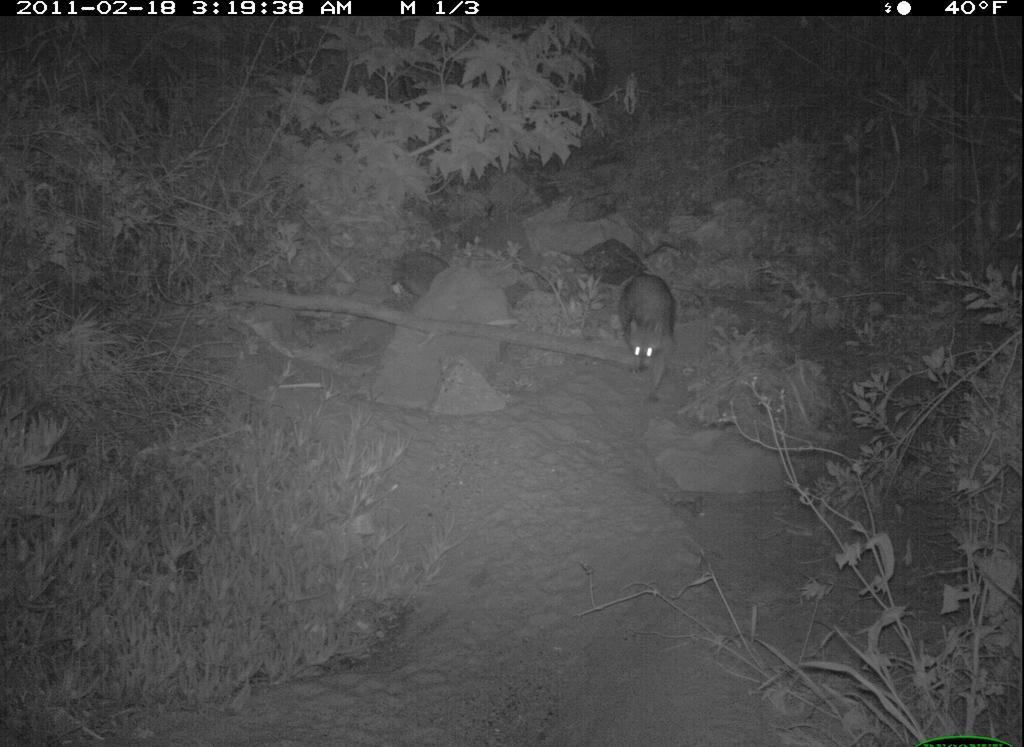raccoon: (614, 265, 680, 405)
